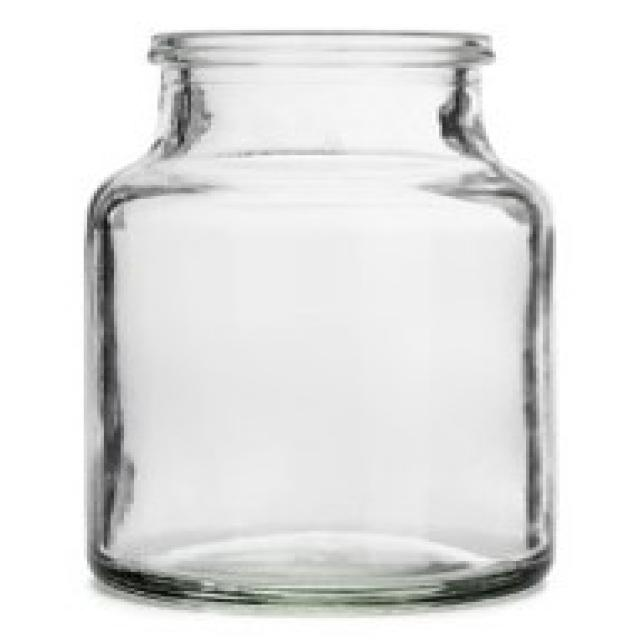electronic: (83, 27, 568, 616)
